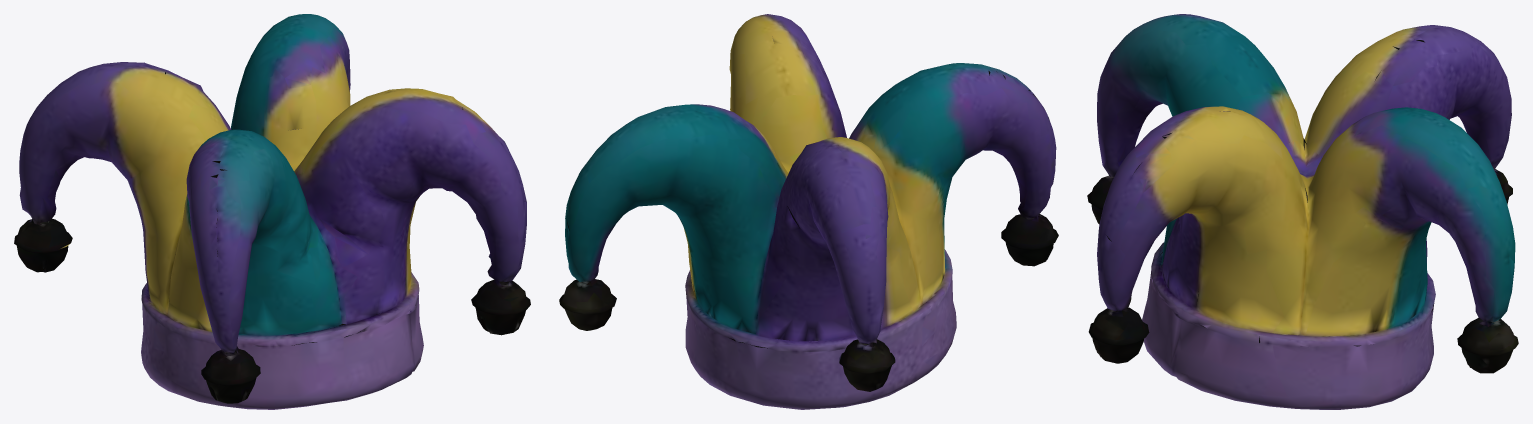
File: jester.glb
3 views of the same model, side by side, from view 1: azimuth 30°, elevation 25°; view 2: azimuth 150°, elevation 25°; view 3: azimuth 270°, elevation 25° (orthographic). The views are drawn at different scales.
Parts seen in each view (by area): view 1: node_0; view 2: node_0; view 3: node_0.
Part boxes in pixels (box(x1,y1,x2,y2)): node_0: box(14, 14, 530, 409); node_0: box(559, 14, 1058, 409); node_0: box(1087, 14, 1518, 409).
Bounding box in the file's own units: 0.46 × 0.3769 × 0.4951.
1 material, 1 textured.
